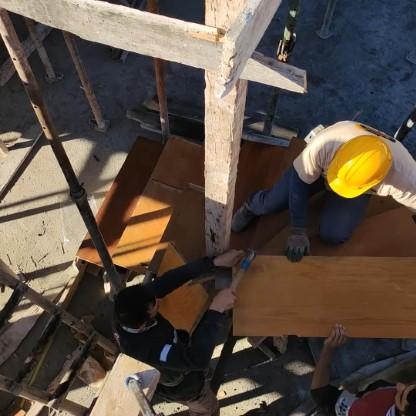helmet: (325, 124, 389, 201)
